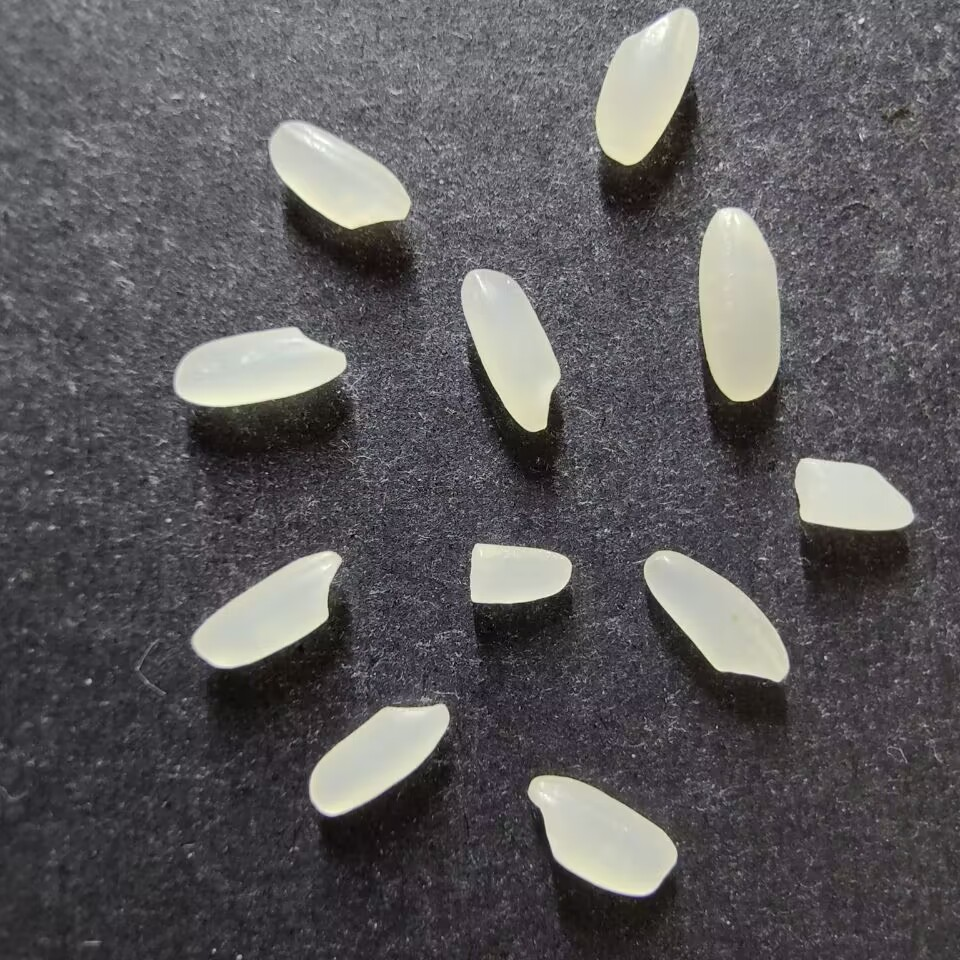broken: (793, 457, 915, 531), (468, 542, 571, 604)
rice: (642, 550, 790, 684), (527, 774, 678, 896), (191, 550, 342, 668), (460, 268, 562, 433), (594, 7, 699, 165), (697, 207, 782, 402), (308, 703, 450, 816), (268, 121, 412, 231), (173, 326, 348, 408)
